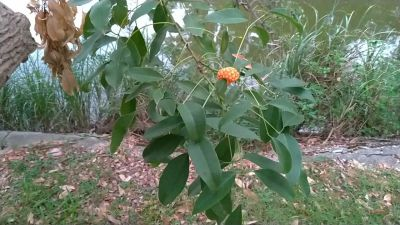eggs: (219, 63, 243, 86)
